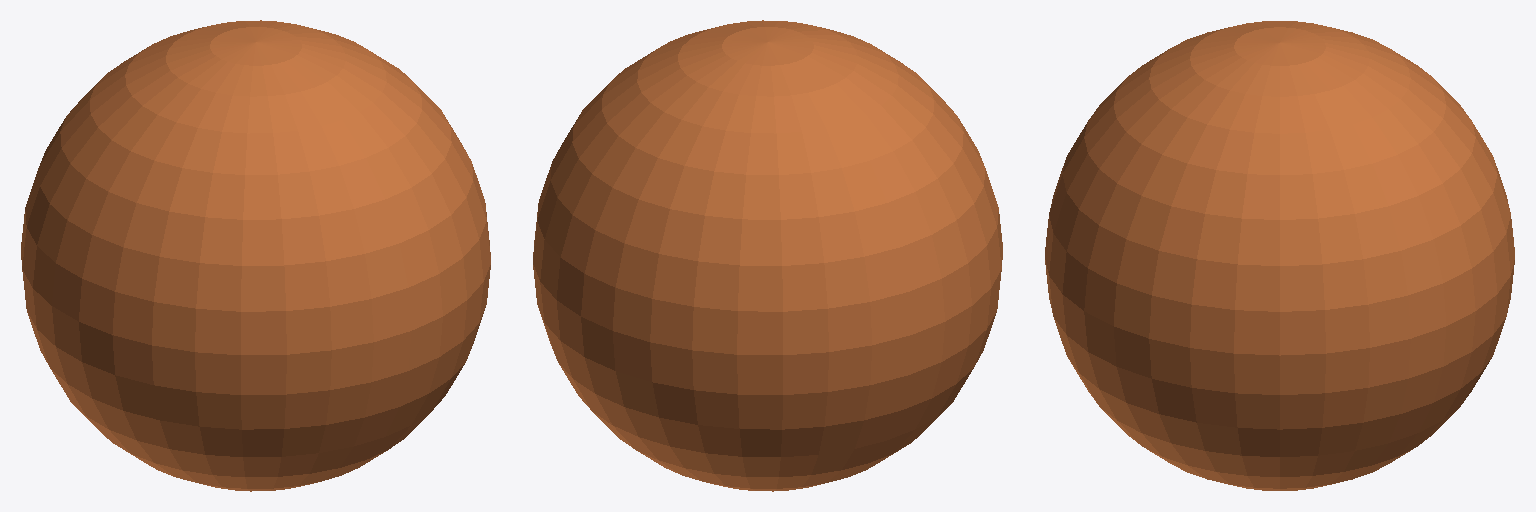
The robot description file, URDF, robot "ant":
<?xml version="1.0" ?>
<robot name="ant">
	<material name="red">
    	<color rgba="0.8 0.5 0.3 1.0"/>
 	</material>
	<link name="torso">
		<inertial>
			<origin rpy="0.00000 -0.00000 0.00000" xyz="0.00000 0.00000 0.00000"/>
			<mass value="65.44985"/>
			<inertia ixx="1.63625" ixy="0" ixz="0" iyy="1.63625" iyz="0" izz="1.63625"/>
			<geometry>
				<sphere radius="0.25000"/>
			</geometry>
		</inertial>
		<visual>
			<origin rpy="0.00000 -0.00000 0.00000" xyz="0.00000 0.00000 0.00000"/>
			<geometry>
				<sphere radius="0.25000"/>
			</geometry>
			<material name="red"/>
		</visual>
		<collision>
			<origin rpy="0.00000 -0.00000 0.00000" xyz="0.00000 0.00000 0.00000"/>
			<geometry>
				<sphere radius="0.25000"/>
			</geometry>
		</collision>
	</link>
	<link name="front_left_leg">
		<inertial>
			<origin rpy="0.00000 -0.00000 0.00000" xyz="0.10000 0.10000 0.00000"/>
			<mass value="7.83155"/>
			<inertia ixx="0.17951" ixy="0" ixz="0" iyy="0.17951" iyz="0" izz="0.29219"/>
		</inertial>
		<visual>
			<origin rpy="-1.57080 0.78540 -0.78540" xyz="0.10000 0.10000 0.00000"/>
			<geometry>
				<capsule length="0.28284" radius="0.08000"/>
			</geometry>
			<material name="red"/>
		</visual>
		<collision>
			<origin rpy="-1.57080 0.78540 -0.78540" xyz="0.10000 0.10000 0.00000"/>
			<geometry>
				<capsule length="0.28284" radius="0.08000"/>
			</geometry>
		</collision>
	</link>
	<link name="link0_3">
		<inertial>
			<origin rpy="0.00000 -0.00000 0.00000" xyz="0.00000 0.00000 0.00000"/>
			<mass value="0.00000"/>
			<inertia ixx="0.00000" ixy="0" ixz="0" iyy="0.00000" iyz="0" izz="0.00000"/>
		</inertial>
	</link>
	<link name="aux_1">
		<inertial>
			<origin rpy="0.00000 -0.00000 0.00000" xyz="0.10000 0.10000 0.00000"/>
			<mass value="7.83155"/>
			<inertia ixx="0.17951" ixy="0" ixz="0" iyy="0.17951" iyz="0" izz="0.29219"/>
		</inertial>
		<visual>
			<origin rpy="-1.57080 0.78540 -0.78540" xyz="0.10000 0.10000 0.00000"/>
			<geometry>
				<capsule length="0.28284" radius="0.08000"/>
			</geometry>
			<material name="red"/>
		</visual>
		<collision>
			<origin rpy="-1.57080 0.78540 -0.78540" xyz="0.10000 0.10000 0.00000"/>
			<geometry>
				<capsule length="0.28284" radius="0.08000"/>
			</geometry>
		</collision>
	</link>
	<link name="link0_5">
		<inertial>
			<origin rpy="0.00000 -0.00000 0.00000" xyz="0.00000 0.00000 0.00000"/>
			<mass value="0.00000"/>
			<inertia ixx="0.00000" ixy="0" ixz="0" iyy="0.00000" iyz="0" izz="0.00000"/>
		</inertial>
	</link>
	<link name="front_left_foot">
		<inertial>
			<origin rpy="0.00000 -0.00000 0.00000" xyz="0.20000 0.20000 0.00000"/>
			<mass value="13.51844"/>
			<inertia ixx="0.56813" ixy="0" ixz="0" iyy="0.56813" iyz="0" izz="1.02090"/>
		</inertial>
		<visual>
			<origin rpy="-1.57080 0.78540 -0.78540" xyz="0.20000 0.20000 0.00000"/>
			<geometry>
				<capsule length="0.56569" radius="0.08000"/>
			</geometry>
			<material name="red"/>
		</visual>
		<collision>
			<origin rpy="-1.57080 0.78540 -0.78540" xyz="0.20000 0.20000 0.00000"/>
			<geometry>
				<capsule length="0.56569" radius="0.08000"/>
			</geometry>
		</collision>
	</link>
	<link name="front_right_leg">
		<inertial>
			<origin rpy="0.00000 -0.00000 0.00000" xyz="-0.10000 0.10000 0.00000"/>
			<mass value="7.83155"/>
			<inertia ixx="0.17951" ixy="0" ixz="0" iyy="0.17951" iyz="0" izz="0.29219"/>
		</inertial>
		<visual>
			<origin rpy="-1.57080 -0.78540 0.78540" xyz="-0.10000 0.10000 0.00000"/>
			<geometry>
				<capsule length="0.28284" radius="0.08000"/>
			</geometry>
			<material name="red"/>
		</visual>
		<collision>
			<origin rpy="-1.57080 -0.78540 0.78540" xyz="-0.10000 0.10000 0.00000"/>
			<geometry>
				<capsule length="0.28284" radius="0.08000"/>
			</geometry>
		</collision>
	</link>
	<link name="link0_8">
		<inertial>
			<origin rpy="0.00000 -0.00000 0.00000" xyz="0.00000 0.00000 0.00000"/>
			<mass value="0.00000"/>
			<inertia ixx="0.00000" ixy="0" ixz="0" iyy="0.00000" iyz="0" izz="0.00000"/>
		</inertial>
	</link>
	<link name="aux_2">
		<inertial>
			<origin rpy="0.00000 -0.00000 0.00000" xyz="-0.10000 0.10000 0.00000"/>
			<mass value="7.83155"/>
			<inertia ixx="0.17951" ixy="0" ixz="0" iyy="0.17951" iyz="0" izz="0.29219"/>
		</inertial>
		<visual>
			<origin rpy="-1.57080 -0.78540 0.78540" xyz="-0.10000 0.10000 0.00000"/>
			<geometry>
				<capsule length="0.28284" radius="0.08000"/>
			</geometry>
			<material name="red"/>
		</visual>
		<collision>
			<origin rpy="-1.57080 -0.78540 0.78540" xyz="-0.10000 0.10000 0.00000"/>
			<geometry>
				<capsule length="0.28284" radius="0.08000"/>
			</geometry>
		</collision>
	</link>
	<link name="link0_10">
		<inertial>
			<origin rpy="0.00000 -0.00000 0.00000" xyz="0.00000 0.00000 0.00000"/>
			<mass value="0.00000"/>
			<inertia ixx="0.00000" ixy="0" ixz="0" iyy="0.00000" iyz="0" izz="0.00000"/>
		</inertial>
	</link>
	<link name="front_right_foot">
		<inertial>
			<origin rpy="0.00000 -0.00000 0.00000" xyz="-0.20000 0.20000 0.00000"/>
			<mass value="13.51844"/>
			<inertia ixx="0.56813" ixy="0" ixz="0" iyy="0.56813" iyz="0" izz="1.02090"/>
		</inertial>
		<visual>
			<origin rpy="-1.57080 -0.78540 0.78540" xyz="-0.20000 0.20000 0.00000"/>
			<geometry>
				<capsule length="0.56569" radius="0.08000"/>
			</geometry>
			<material name="red"/>
		</visual>
		<collision>
			<origin rpy="-1.57080 -0.78540 0.78540" xyz="-0.20000 0.20000 0.00000"/>
			<geometry>
				<capsule length="0.56569" radius="0.08000"/>
			</geometry>
		</collision>
	</link>
	<link name="left_back_leg">
		<inertial>
			<origin rpy="0.00000 -0.00000 0.00000" xyz="-0.10000 -0.10000 0.00000"/>
			<mass value="7.83155"/>
			<inertia ixx="0.17951" ixy="0" ixz="0" iyy="0.17951" iyz="0" izz="0.29219"/>
		</inertial>
		<visual>
			<origin rpy="1.57080 -0.78540 -0.78540" xyz="-0.10000 -0.10000 0.00000"/>
			<geometry>
				<capsule length="0.28284" radius="0.08000"/>
			</geometry>
			<material name="red"/>
		</visual>
		<collision>
			<origin rpy="1.57080 -0.78540 -0.78540" xyz="-0.10000 -0.10000 0.00000"/>
			<geometry>
				<capsule length="0.28284" radius="0.08000"/>
			</geometry>
		</collision>
	</link>
	<link name="link0_13">
		<inertial>
			<origin rpy="0.00000 -0.00000 0.00000" xyz="0.00000 0.00000 0.00000"/>
			<mass value="0.00000"/>
			<inertia ixx="0.00000" ixy="0" ixz="0" iyy="0.00000" iyz="0" izz="0.00000"/>
		</inertial>
	</link>
	<link name="aux_3">
		<inertial>
			<origin rpy="0.00000 -0.00000 0.00000" xyz="-0.10000 -0.10000 0.00000"/>
			<mass value="7.83155"/>
			<inertia ixx="0.17951" ixy="0" ixz="0" iyy="0.17951" iyz="0" izz="0.29219"/>
		</inertial>
		<visual>
			<origin rpy="1.57080 -0.78540 -0.78540" xyz="-0.10000 -0.10000 0.00000"/>
			<geometry>
				<capsule length="0.28284" radius="0.08000"/>
			</geometry>
			<material name="red"/>
		</visual>
		<collision>
			<origin rpy="1.57080 -0.78540 -0.78540" xyz="-0.10000 -0.10000 0.00000"/>
			<geometry>
				<capsule length="0.28284" radius="0.08000"/>
			</geometry>
		</collision>
	</link>
	<link name="link0_15">
		<inertial>
			<origin rpy="0.00000 -0.00000 0.00000" xyz="0.00000 0.00000 0.00000"/>
			<mass value="0.00000"/>
			<inertia ixx="0.00000" ixy="0" ixz="0" iyy="0.00000" iyz="0" izz="0.00000"/>
		</inertial>
	</link>
	<link name="left_back_foot">
		<inertial>
			<origin rpy="0.00000 -0.00000 0.00000" xyz="-0.20000 -0.20000 0.00000"/>
			<mass value="13.51844"/>
			<inertia ixx="0.56813" ixy="0" ixz="0" iyy="0.56813" iyz="0" izz="1.02090"/>
		</inertial>
		<visual>
			<origin rpy="1.57080 -0.78540 -0.78540" xyz="-0.20000 -0.20000 0.00000"/>
			<geometry>
				<capsule length="0.56569" radius="0.08000"/>
			</geometry>
			<material name="red"/>
		</visual>
		<collision>
			<origin rpy="1.57080 -0.78540 -0.78540" xyz="-0.20000 -0.20000 0.00000"/>
			<geometry>
				<capsule length="0.56569" radius="0.08000"/>
			</geometry>
		</collision>
	</link>
	<link name="right_back_leg">
		<inertial>
			<origin rpy="0.00000 -0.00000 0.00000" xyz="0.10000 -0.10000 0.00000"/>
			<mass value="7.83155"/>
			<inertia ixx="0.17951" ixy="0" ixz="0" iyy="0.17951" iyz="0" izz="0.29219"/>
		</inertial>
		<visual>
			<origin rpy="1.57080 0.78540 0.78540" xyz="0.10000 -0.10000 0.00000"/>
			<geometry>
				<capsule length="0.28284" radius="0.08000"/>
			</geometry>
			<material name="red"/>
		</visual>
		<collision>
			<origin rpy="1.57080 0.78540 0.78540" xyz="0.10000 -0.10000 0.00000"/>
			<geometry>
				<capsule length="0.28284" radius="0.08000"/>
			</geometry>
		</collision>
	</link>
	<link name="link0_18">
		<inertial>
			<origin rpy="0.00000 -0.00000 0.00000" xyz="0.00000 0.00000 0.00000"/>
			<mass value="0.00000"/>
			<inertia ixx="0.00000" ixy="0" ixz="0" iyy="0.00000" iyz="0" izz="0.00000"/>
		</inertial>
	</link>
	<link name="aux_4">
		<inertial>
			<origin rpy="0.00000 -0.00000 0.00000" xyz="0.10000 -0.10000 0.00000"/>
			<mass value="7.83155"/>
			<inertia ixx="0.17951" ixy="0" ixz="0" iyy="0.17951" iyz="0" izz="0.29219"/>
		</inertial>
		<visual>
			<origin rpy="1.57080 0.78540 0.78540" xyz="0.10000 -0.10000 0.00000"/>
			<geometry>
				<capsule length="0.28284" radius="0.08000"/>
			</geometry>
			<material name="red"/>
		</visual>
		<collision>
			<origin rpy="1.57080 0.78540 0.78540" xyz="0.10000 -0.10000 0.00000"/>
			<geometry>
				<capsule length="0.28284" radius="0.08000"/>
			</geometry>
		</collision>
	</link>
	<link name="link0_20">
		<inertial>
			<origin rpy="0.00000 -0.00000 0.00000" xyz="0.00000 0.00000 0.00000"/>
			<mass value="0.00000"/>
			<inertia ixx="0.00000" ixy="0" ixz="0" iyy="0.00000" iyz="0" izz="0.00000"/>
		</inertial>
	</link>
	<link name="right_back_foot">
		<inertial>
			<origin rpy="0.00000 -0.00000 0.00000" xyz="0.20000 -0.20000 0.00000"/>
			<mass value="13.51844"/>
			<inertia ixx="0.56813" ixy="0" ixz="0" iyy="0.56813" iyz="0" izz="1.02090"/>
		</inertial>
		<visual>
			<origin rpy="1.57080 0.78540 0.78540" xyz="0.20000 -0.20000 0.00000"/>
			<geometry>
				<capsule length="0.56569" radius="0.08000"/>
			</geometry>
			<material name="red"/>
		</visual>
		<collision>
			<origin rpy="1.57080 0.78540 0.78540" xyz="0.20000 -0.20000 0.00000"/>
			<geometry>
				<capsule length="0.56569" radius="0.08000"/>
			</geometry>
		</collision>
	</link>
	<joint name="jointfix_2_0" type="fixed">
		<parent link="torso"/>
		<child link="front_left_leg"/>
		<dynamics damping="1.0" friction="0.0001"/>
		<origin rpy="0.00000 -0.00000 0.00000" xyz="0.00000 0.00000 0.00000"/>
		<axis xyz="0.00000 0.00000 0.00000"/>
		<limit effort="44.4" lower="-1" upper="1" velocity="40"/>
	</joint>
	<joint name="hip_1" type="revolute">
		<parent link="front_left_leg"/>
		<child link="link0_3"/>
		<dynamics damping="1.0" friction="0.0001"/>
		<origin rpy="0.00000 -0.00000 0.00000" xyz="0.20000 0.20000 0.00000"/>
		<axis xyz="0.00000 0.00000 1.00000"/>
		<limit effort="44.4" lower="-1" upper="1" velocity="40"/>
	</joint>
	<joint name="jointfix_1_3" type="fixed">
		<parent link="link0_3"/>
		<child link="aux_1"/>
		<dynamics damping="1.0" friction="0.0001"/>
		<origin rpy="0.00000 -0.00000 0.00000" xyz="0.00000 0.00000 0.00000"/>
		<axis xyz="0.00000 0.00000 0.00000"/>
		<limit effort="44.4" lower="-1" upper="1" velocity="40"/>
	</joint>
	<joint name="ankle_1" type="revolute">
		<parent link="aux_1"/>
		<child link="link0_5"/>
		<dynamics damping="1.0" friction="0.0001"/>
		<origin rpy="0.00000 -0.00000 0.00000" xyz="0.20000 0.20000 0.00000"/>
		<axis xyz="-1.00000 1.00000 0.00000"/>
		<limit effort="44.4" lower="-1" upper="1" velocity="40"/>
	</joint>
	<joint name="jointfix_0_5" type="fixed">
		<parent link="link0_5"/>
		<child link="front_left_foot"/>
		<dynamics damping="1.0" friction="0.0001"/>
		<origin rpy="0.00000 -0.00000 0.00000" xyz="0.00000 0.00000 0.00000"/>
		<axis xyz="0.00000 0.00000 0.00000"/>
		<limit effort="44.4" lower="-1" upper="1" velocity="40"/>
	</joint>
	<joint name="jointfix_5_0" type="fixed">
		<parent link="torso"/>
		<child link="front_right_leg"/>
		<dynamics damping="1.0" friction="0.0001"/>
		<origin rpy="0.00000 -0.00000 0.00000" xyz="0.00000 0.00000 0.00000"/>
		<axis xyz="0.00000 0.00000 0.00000"/>
		<limit effort="44.4" lower="-1" upper="1" velocity="40"/>
	</joint>
	<joint name="hip_2" type="revolute">
		<parent link="front_right_leg"/>
		<child link="link0_8"/>
		<dynamics damping="1.0" friction="0.0001"/>
		<origin rpy="0.00000 -0.00000 0.00000" xyz="-0.20000 0.20000 0.00000"/>
		<axis xyz="0.00000 0.00000 1.00000"/>
		<limit effort="44.4" lower="-1" upper="1" velocity="40"/>
	</joint>
	<joint name="jointfix_4_8" type="fixed">
		<parent link="link0_8"/>
		<child link="aux_2"/>
		<dynamics damping="1.0" friction="0.0001"/>
		<origin rpy="0.00000 -0.00000 0.00000" xyz="0.00000 0.00000 0.00000"/>
		<axis xyz="0.00000 0.00000 0.00000"/>
		<limit effort="44.4" lower="-1" upper="1" velocity="40"/>
	</joint>
	<joint name="ankle_2" type="revolute">
		<parent link="aux_2"/>
		<child link="link0_10"/>
		<dynamics damping="1.0" friction="0.0001"/>
		<origin rpy="0.00000 -0.00000 0.00000" xyz="-0.20000 0.20000 0.00000"/>
		<axis xyz="1.00000 1.00000 0.00000"/>
		<limit effort="44.4" lower="-1" upper="1" velocity="40"/>
	</joint>
	<joint name="jointfix_3_10" type="fixed">
		<parent link="link0_10"/>
		<child link="front_right_foot"/>
		<dynamics damping="1.0" friction="0.0001"/>
		<origin rpy="0.00000 -0.00000 0.00000" xyz="0.00000 0.00000 0.00000"/>
		<axis xyz="0.00000 0.00000 0.00000"/>
		<limit effort="44.4" lower="-1" upper="1" velocity="40"/>
	</joint>
	<joint name="jointfix_8_0" type="fixed">
		<parent link="torso"/>
		<child link="left_back_leg"/>
		<dynamics damping="1.0" friction="0.0001"/>
		<origin rpy="0.00000 -0.00000 0.00000" xyz="0.00000 0.00000 0.00000"/>
		<axis xyz="0.00000 0.00000 0.00000"/>
		<limit effort="44.4" lower="-1" upper="1" velocity="40"/>
	</joint>
	<joint name="hip_3" type="revolute">
		<parent link="left_back_leg"/>
		<child link="link0_13"/>
		<dynamics damping="1.0" friction="0.0001"/>
		<origin rpy="0.00000 -0.00000 0.00000" xyz="-0.20000 -0.20000 0.00000"/>
		<axis xyz="0.00000 0.00000 1.00000"/>
		<limit effort="44.4" lower="-1" upper="1" velocity="40"/>
	</joint>
	<joint name="jointfix_7_13" type="fixed">
		<parent link="link0_13"/>
		<child link="aux_3"/>
		<dynamics damping="1.0" friction="0.0001"/>
		<origin rpy="0.00000 -0.00000 0.00000" xyz="0.00000 0.00000 0.00000"/>
		<axis xyz="0.00000 0.00000 0.00000"/>
		<limit effort="44.4" lower="-1" upper="1" velocity="40"/>
	</joint>
	<joint name="ankle_3" type="revolute">
		<parent link="aux_3"/>
		<child link="link0_15"/>
		<dynamics damping="1.0" friction="0.0001"/>
		<origin rpy="0.00000 -0.00000 0.00000" xyz="-0.20000 -0.20000 0.00000"/>
		<axis xyz="-1.00000 1.00000 0.00000"/>
		<limit effort="44.4" lower="-1" upper="1" velocity="40"/>
	</joint>
	<joint name="jointfix_6_15" type="fixed">
		<parent link="link0_15"/>
		<child link="left_back_foot"/>
		<dynamics damping="1.0" friction="0.0001"/>
		<origin rpy="0.00000 -0.00000 0.00000" xyz="0.00000 0.00000 0.00000"/>
		<axis xyz="0.00000 0.00000 0.00000"/>
		<limit effort="44.4" lower="-1" upper="1" velocity="40"/>
	</joint>
	<joint name="jointfix_11_0" type="fixed">
		<parent link="torso"/>
		<child link="right_back_leg"/>
		<dynamics damping="1.0" friction="0.0001"/>
		<origin rpy="0.00000 -0.00000 0.00000" xyz="0.00000 0.00000 0.00000"/>
		<axis xyz="0.00000 0.00000 0.00000"/>
		<limit effort="44.4" lower="-1" upper="1" velocity="40"/>
	</joint>
	<joint name="hip_4" type="revolute">
		<parent link="right_back_leg"/>
		<child link="link0_18"/>
		<dynamics damping="1.0" friction="0.0001"/>
		<origin rpy="0.00000 -0.00000 0.00000" xyz="0.20000 -0.20000 0.00000"/>
		<axis xyz="0.00000 0.00000 1.00000"/>
		<limit effort="44.4" lower="-1" upper="1" velocity="40"/>
	</joint>
	<joint name="jointfix_10_18" type="fixed">
		<parent link="link0_18"/>
		<child link="aux_4"/>
		<dynamics damping="1.0" friction="0.0001"/>
		<origin rpy="0.00000 -0.00000 0.00000" xyz="0.00000 0.00000 0.00000"/>
		<axis xyz="0.00000 0.00000 0.00000"/>
		<limit effort="44.4" lower="-1" upper="1" velocity="40"/>
	</joint>
	<joint name="ankle_4" type="revolute">
		<parent link="aux_4"/>
		<child link="link0_20"/>
		<dynamics damping="1.0" friction="0.0001"/>
		<origin rpy="0.00000 -0.00000 0.00000" xyz="0.20000 -0.20000 0.00000"/>
		<axis xyz="1.00000 1.00000 0.00000"/>
		<limit effort="44.4" lower="-1" upper="1" velocity="40"/>
	</joint>
	<joint name="jointfix_9_20" type="fixed">
		<parent link="link0_20"/>
		<child link="right_back_foot"/>
		<dynamics damping="1.0" friction="0.0001"/>
		<origin rpy="0.00000 -0.00000 0.00000" xyz="0.00000 0.00000 0.00000"/>
		<axis xyz="0.00000 0.00000 0.00000"/>
		<limit effort="44.4" lower="-1" upper="1" velocity="40"/>
	</joint>
</robot>

--- Facts derived from the render (not from the file) ---
The picture shows the robot from 3 angles, left to right: view 1: azimuth 30°, elevation 25°; view 2: azimuth 150°, elevation 25°; view 3: azimuth 270°, elevation 25°; orthographic projection.
Model ant with 21 links and 20 joints (8 revolute, 12 fixed), rooted at torso, posed all joints at 0.
Links seen in each view (by area): view 1: torso; view 2: torso; view 3: torso.
Boxes of the visible links, <box> form: torso: <box>21,20,490,491</box>; torso: <box>533,20,1002,491</box>; torso: <box>1045,21,1514,490</box>.
Size in the robot's own frame: 0.5 by 0.5 by 0.5 metres.
Geometry: primitives only (box / cylinder / sphere), no mesh files.